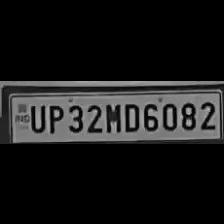0: (158, 99, 178, 131)
2: (196, 98, 216, 130), (84, 100, 103, 132)
3: (64, 100, 84, 132)
6: (140, 99, 158, 131)
8: (178, 99, 196, 131)
D: (122, 98, 140, 132)
M: (103, 99, 121, 133)
P: (45, 100, 63, 134)
U: (27, 101, 45, 133)
